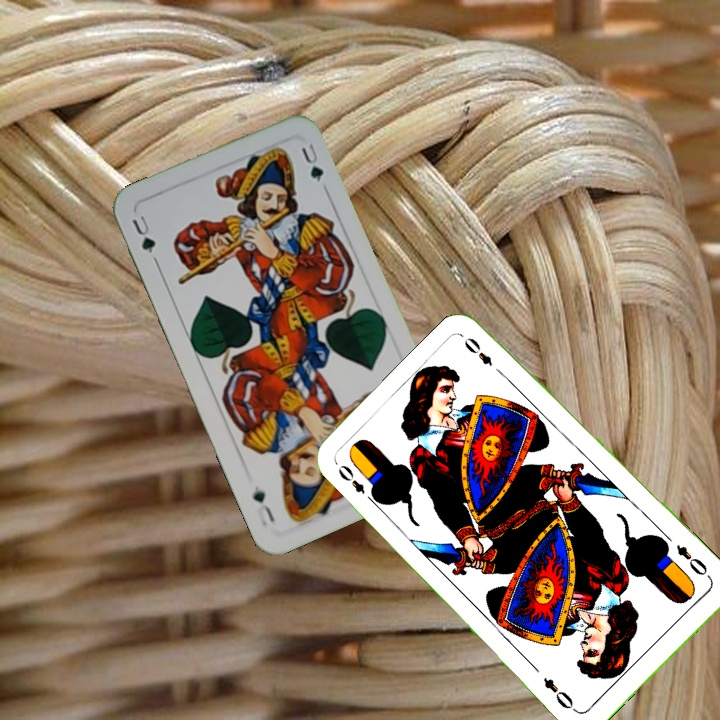EO: (334, 460, 379, 507), (672, 540, 710, 579)
GU: (127, 209, 158, 256)
